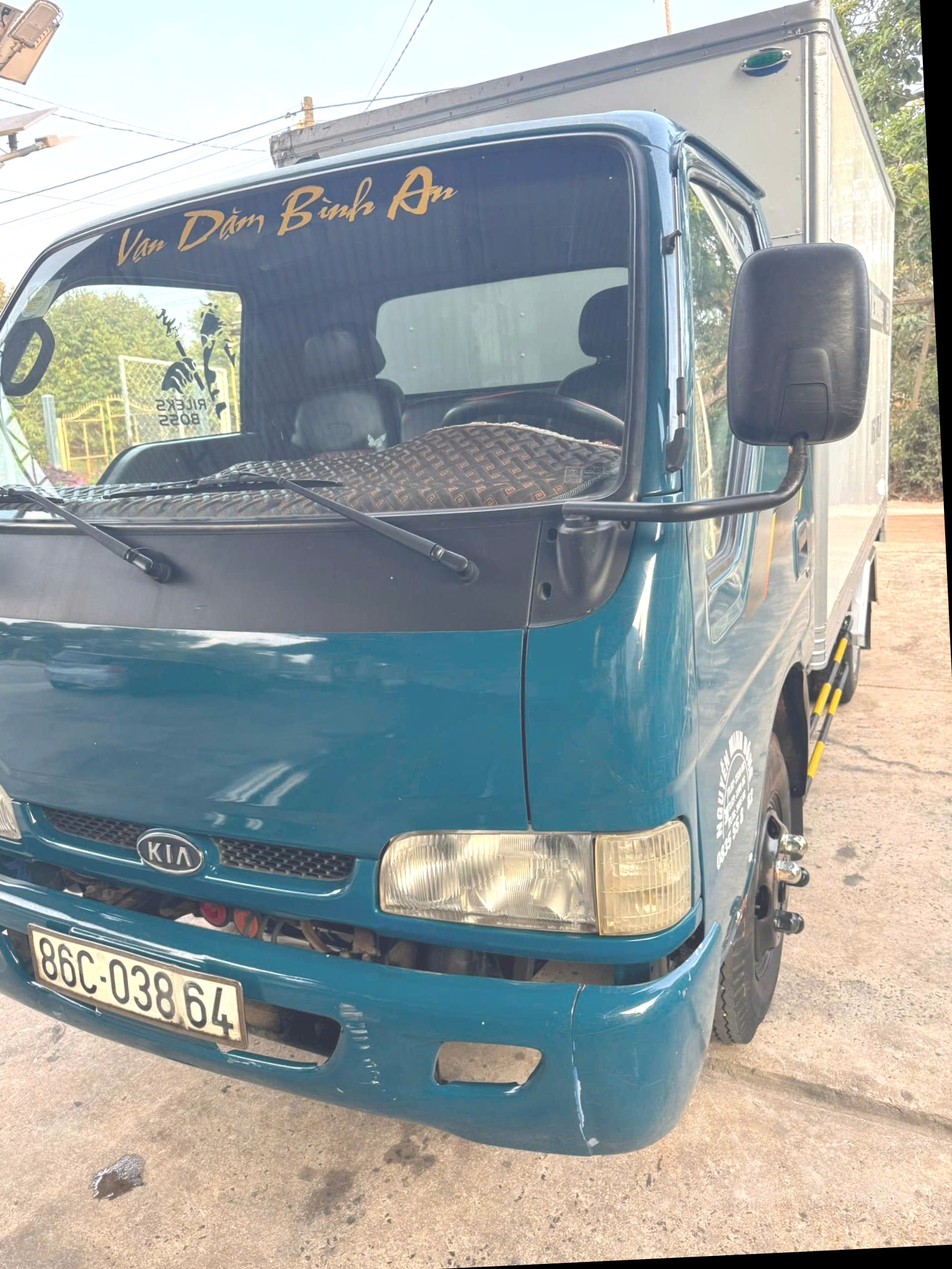Bien-so: (27, 911, 251, 1063)
